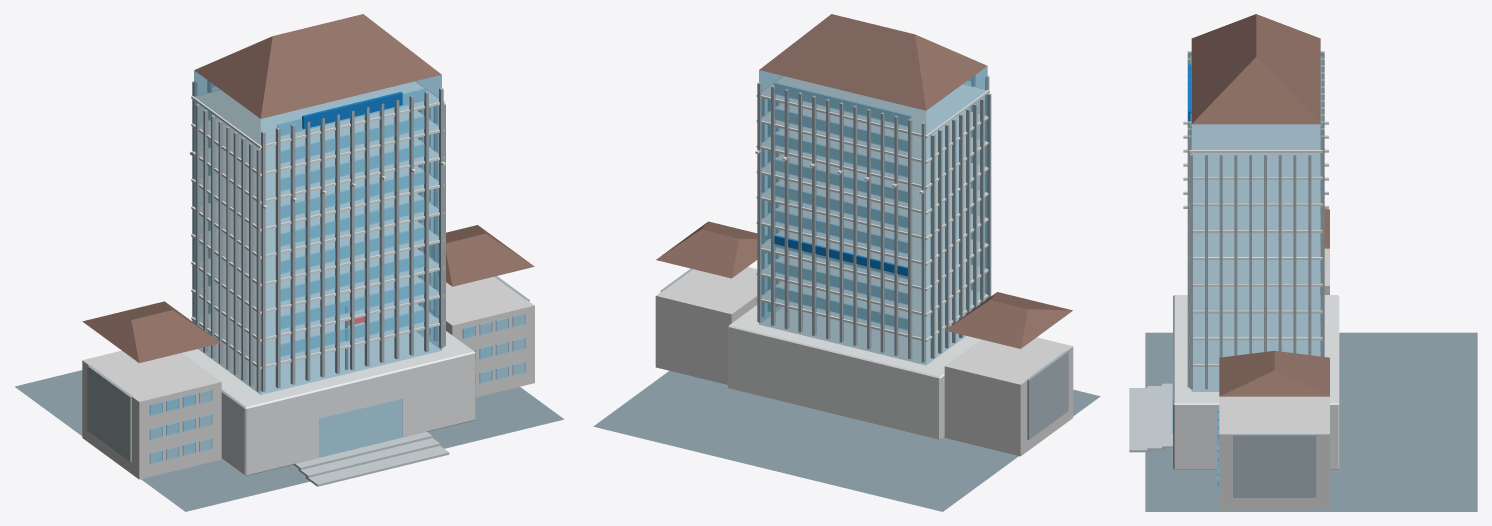
File: nha_dieu_hanh.glb
3 views of the same model, side by side, from view 1: azimuth 30°, elevation 25°; view 2: azimuth 150°, elevation 25°; view 3: azimuth 270°, elevation 25° (orthographic). The views are drawn at different scales.
Parts seen in each view (by area): view 1: DieuHanh_Tower, DieuHanh_Podium, DieuHanh_Roof, DieuHanh_Wing_-1, DieuHanh_Plaza, DieuHanh_Wing_1, DieuHanh_WingRoof_-1, DieuHanh_Band_9, DieuHanh_WingRoof_1, DieuHanh_LobbyGlass, DieuHanh_WingStrip_-1, DieuHanh_Band_8 (+45 smaller); view 2: DieuHanh_Tower, DieuHanh_Plaza, DieuHanh_Podium, DieuHanh_Roof, DieuHanh_Wing_-1, DieuHanh_Wing_1, DieuHanh_WingRoof_-1, DieuHanh_Band_9, DieuHanh_WingRoof_1, DieuHanh_WingStrip_-1, DieuHanh_Band_8, DieuHanh_Band_4 (+37 smaller); view 3: DieuHanh_Plaza, DieuHanh_Tower, DieuHanh_Roof, DieuHanh_Podium, DieuHanh_Wing_1, DieuHanh_WingStrip_1, DieuHanh_WingRoof_1, DieuHanh_Band_9, DieuHanh_Band_3, DieuHanh_Band_6, DieuHanh_Band_2, DieuHanh_Band_7 (+18 smaller).
Part boxes in pixels (box(x1,y1,x2,y2)): DieuHanh_Tower: box(194, 70, 441, 394); DieuHanh_Podium: box(182, 326, 475, 475); DieuHanh_Roof: box(194, 14, 441, 118); DieuHanh_Wing_-1: box(82, 350, 221, 479); DieuHanh_Plaza: box(14, 370, 564, 511); DieuHanh_Wing_1: box(423, 275, 534, 397); DieuHanh_WingRoof_-1: box(82, 301, 221, 362); DieuHanh_Band_9: box(191, 81, 444, 148); DieuHanh_WingRoof_1: box(423, 225, 534, 286); DieuHanh_LobbyGlass: box(319, 398, 402, 457); DieuHanh_WingStrip_-1: box(87, 365, 132, 461); DieuHanh_Band_8: box(191, 110, 444, 176); DieuHanh_Tower: box(759, 66, 987, 365); DieuHanh_Plaza: box(593, 371, 1100, 511); DieuHanh_Podium: box(728, 303, 980, 440); DieuHanh_Roof: box(759, 14, 987, 110); DieuHanh_Wing_-1: box(944, 337, 1073, 456); DieuHanh_Wing_1: box(655, 267, 779, 384); DieuHanh_WingRoof_-1: box(945, 292, 1072, 348); DieuHanh_Band_9: box(756, 76, 989, 138); DieuHanh_WingRoof_1: box(656, 221, 767, 278); DieuHanh_WingStrip_-1: box(1026, 351, 1068, 439); DieuHanh_Band_8: box(756, 103, 988, 163); DieuHanh_Band_4: box(756, 205, 988, 265); DieuHanh_Plaza: box(1145, 332, 1477, 511); DieuHanh_Tower: box(1191, 124, 1320, 391); DieuHanh_Roof: box(1191, 14, 1320, 124); DieuHanh_Podium: box(1173, 295, 1339, 469); DieuHanh_Wing_1: box(1219, 396, 1329, 509); DieuHanh_WingStrip_1: box(1233, 434, 1316, 497); DieuHanh_WingRoof_1: box(1219, 350, 1329, 396); DieuHanh_Band_9: box(1189, 124, 1322, 152); DieuHanh_Band_3: box(1189, 286, 1322, 313); DieuHanh_Band_6: box(1189, 206, 1322, 233); DieuHanh_Band_2: box(1189, 313, 1322, 340); DieuHanh_Band_7: box(1189, 179, 1322, 206).
Bounding box in the file's own units: 48.45 × 46.25 × 37.75.
